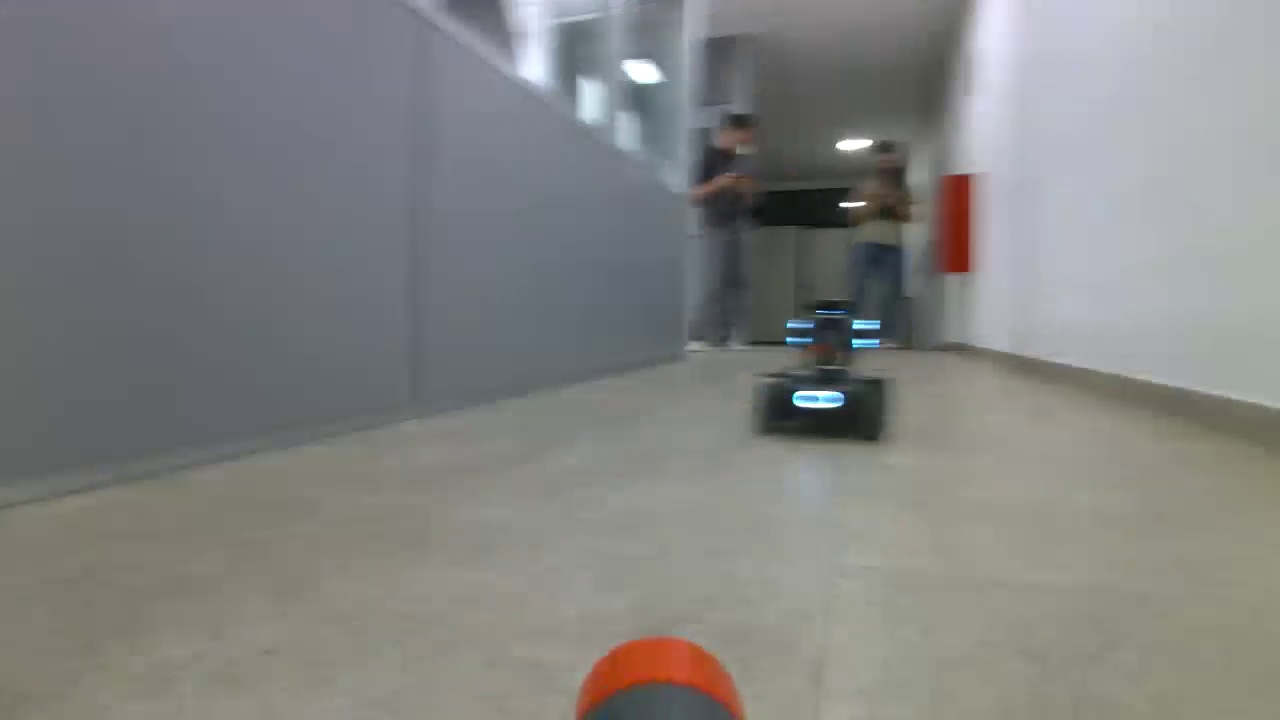robot: (754, 298, 889, 444)
